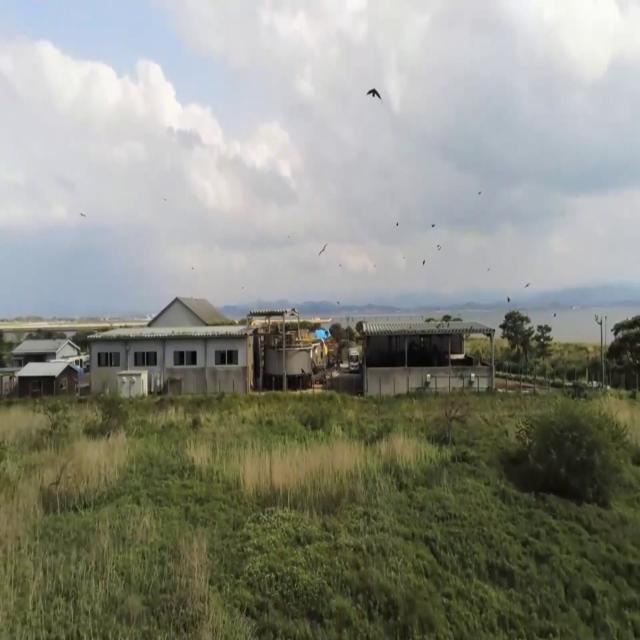bird: (366, 78, 382, 114), (318, 236, 328, 261)
